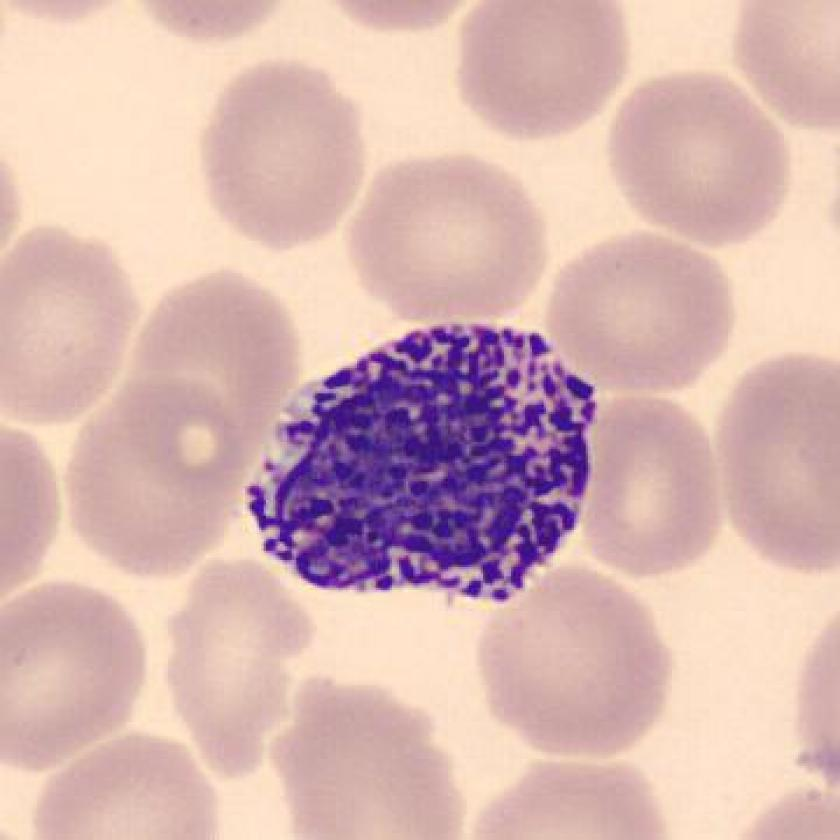basophil: (242, 311, 606, 614)
